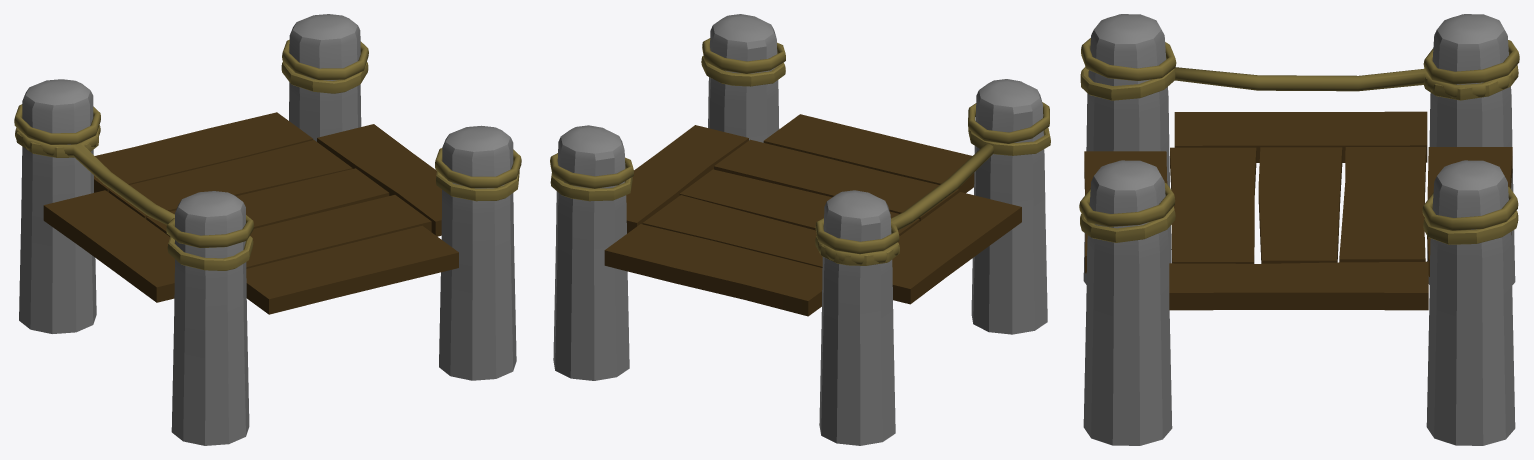
File: DockConnectorTwoway.fbx
The picture shows the model from 3 angles, left to right: view 1: azimuth 30°, elevation 25°; view 2: azimuth 150°, elevation 25°; view 3: azimuth 270°, elevation 25°; orthographic projection. The views are drawn at different scales.
Parts seen in each view (by area): view 1: DockPillar021, DockPillar022, DockPillar019, DockPlanks028, DockPlanks022, DockPlanks025, DockPlanks024, DockPillar020, DockPlanks026, DockPlanks027, DockPlanks023, RopeDock047 (+8 smaller); view 2: DockPillar019, DockPillar020, DockPillar021, DockPlanks025, DockPlanks022, DockPlanks026, DockPlanks028, DockPillar022, DockPlanks024, DockPlanks027, DockPlanks023, RopeDock047 (+8 smaller); view 3: DockPillar020, DockPillar022, DockPlanks027, DockPlanks026, DockPlanks024, DockPlanks023, DockPlanks022, DockPillar021, DockPillar019, RopeDock047, DockPlanks025, RopeDock056 (+8 smaller).
Boxes of the visible parts, box(x1,y1,x2,y2) form: DockPillar021: box(171, 191, 249, 445); DockPillar022: box(439, 125, 516, 380); DockPillar019: box(19, 79, 96, 333); DockPlanks028: box(246, 225, 458, 314); DockPlanks022: box(43, 190, 174, 302); DockPlanks025: box(94, 112, 313, 192); DockPlanks024: box(108, 140, 352, 218); DockPillar020: box(289, 14, 361, 141); DockPlanks026: box(246, 195, 431, 268); DockPlanks027: box(317, 124, 441, 236); DockPlanks023: box(146, 168, 389, 236); RopeDock047: box(15, 125, 174, 224); DockPillar019: box(819, 190, 895, 445); DockPillar020: box(553, 125, 629, 380); DockPillar021: box(971, 79, 1047, 334); DockPlanks025: box(604, 224, 822, 316); DockPlanks022: box(892, 192, 1021, 304); DockPlanks026: box(714, 139, 958, 221); DockPlanks028: box(763, 114, 974, 193); DockPillar022: box(708, 14, 779, 142); DockPlanks024: box(642, 195, 822, 267); DockPlanks027: box(626, 125, 748, 233); DockPlanks023: box(679, 169, 919, 236); RopeDock047: box(816, 144, 993, 264); DockPillar020: box(1426, 160, 1515, 445); DockPillar022: box(1083, 160, 1172, 445); DockPlanks027: box(1169, 261, 1428, 310); DockPlanks026: box(1170, 147, 1256, 263); DockPlanks024: box(1339, 147, 1425, 262); DockPlanks023: box(1258, 147, 1342, 263); DockPlanks022: box(1174, 111, 1427, 162); DockPillar021: box(1083, 14, 1171, 284); DockPillar019: box(1427, 14, 1515, 284); RopeDock047: box(1174, 64, 1518, 98); DockPlanks025: box(1427, 147, 1512, 276); RopeDock056: box(1079, 183, 1175, 226).
Size of the model in its own units: 162 by 161 by 105.
